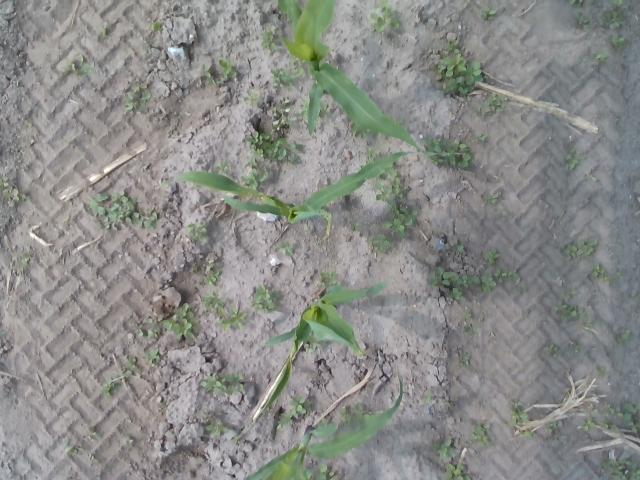Maize: (278, 0, 441, 157), (157, 150, 414, 240), (245, 374, 402, 480), (264, 283, 386, 357)
Weeds: (425, 266, 519, 303), (88, 190, 160, 234), (430, 40, 486, 96), (373, 171, 418, 236), (130, 301, 198, 341), (244, 131, 304, 164), (426, 134, 472, 169), (104, 357, 140, 395), (200, 371, 243, 402), (603, 400, 640, 434), (278, 394, 310, 428), (123, 80, 152, 116), (237, 156, 269, 188), (250, 282, 281, 314), (369, 0, 400, 31), (270, 60, 304, 88), (272, 98, 298, 132), (602, 458, 640, 480), (552, 300, 585, 324), (202, 412, 230, 440), (215, 308, 247, 332), (600, 1, 628, 28), (564, 237, 598, 259), (62, 54, 96, 76), (470, 420, 494, 448), (366, 233, 392, 258), (0, 175, 19, 208), (202, 288, 225, 314), (337, 402, 370, 420), (430, 440, 458, 460), (508, 400, 530, 425), (187, 220, 209, 244), (443, 462, 472, 480), (218, 57, 238, 80), (592, 262, 611, 286), (306, 464, 334, 480), (203, 260, 220, 286), (484, 92, 504, 114), (260, 30, 280, 52), (566, 148, 586, 169), (274, 241, 298, 258), (242, 88, 264, 106), (316, 270, 338, 288), (611, 32, 629, 52), (198, 64, 216, 84), (420, 388, 436, 409), (457, 350, 475, 368), (480, 7, 498, 23), (342, 216, 362, 230), (463, 310, 475, 333), (18, 252, 30, 274), (542, 421, 562, 434), (592, 48, 608, 64), (576, 12, 592, 28), (484, 192, 501, 207), (484, 248, 498, 266), (100, 21, 112, 41), (86, 424, 100, 440), (364, 144, 380, 158), (542, 344, 560, 356), (350, 128, 370, 138), (583, 168, 597, 182), (616, 330, 630, 344), (63, 441, 77, 455), (579, 418, 594, 431), (146, 348, 158, 364), (150, 18, 163, 32), (318, 100, 328, 118), (566, 286, 578, 300), (300, 100, 308, 120), (596, 366, 608, 378), (566, 340, 578, 352), (218, 160, 228, 174), (454, 240, 464, 253), (568, 0, 588, 6), (630, 290, 640, 300), (20, 193, 30, 202), (477, 133, 486, 142), (124, 436, 134, 444), (314, 240, 325, 247), (613, 271, 623, 278), (190, 263, 198, 271), (443, 402, 453, 408), (584, 322, 592, 329), (89, 454, 95, 460), (524, 430, 530, 436)
